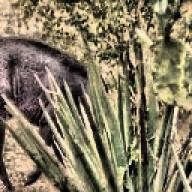boar: (0, 34, 94, 191)
